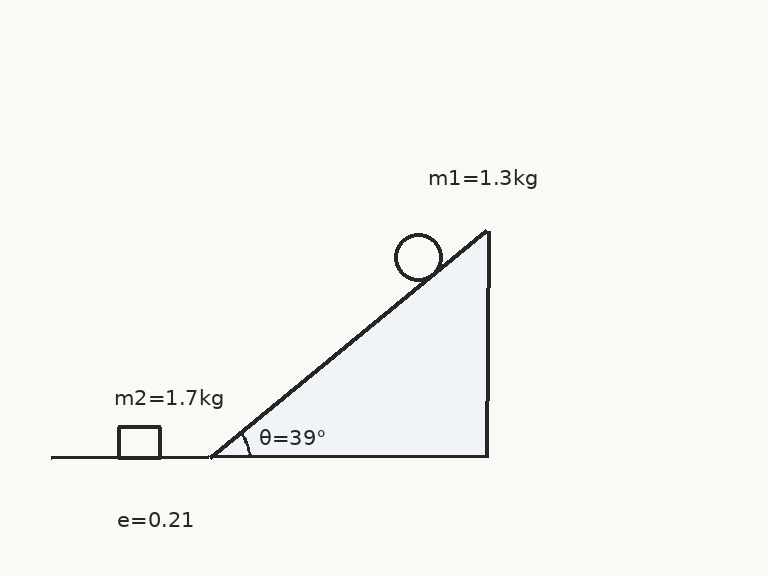ball: (392, 230, 444, 282)
block: (116, 424, 162, 459)
ramp: (207, 230, 489, 459)
